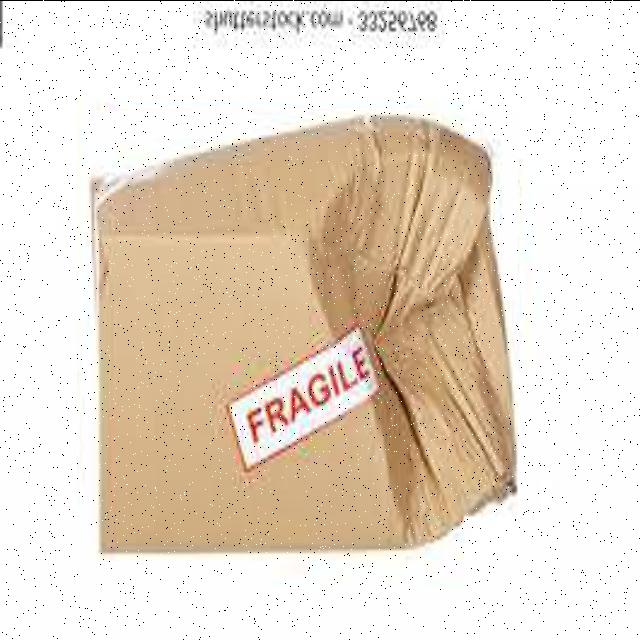defect: (86, 110, 518, 560)
